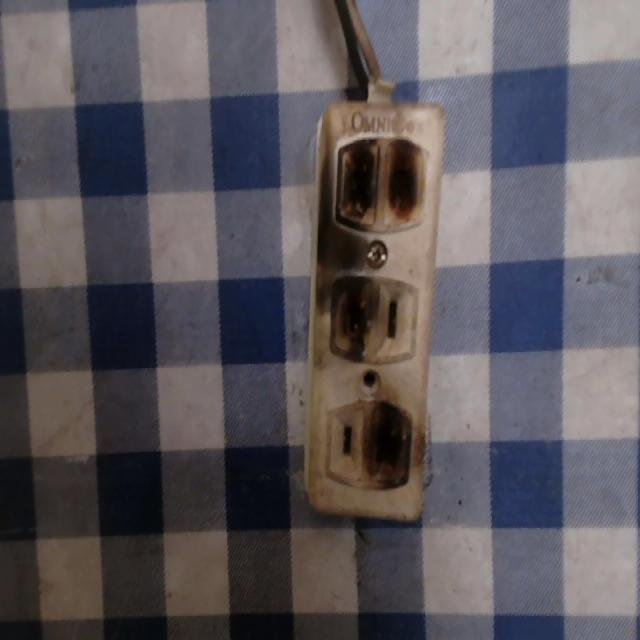-: (329, 132, 434, 235), (361, 392, 421, 493), (329, 272, 381, 369)
